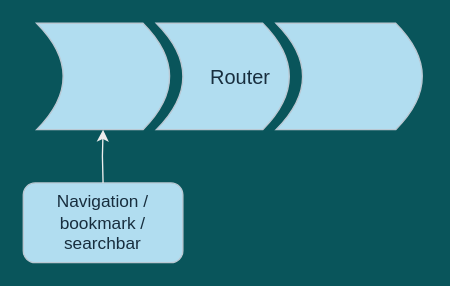
Some shapes in this 450 by 286 pixel diagram are drawn without their labels. Each missing label, with the centre of its shape:
"Component" belongs at [348,76].
"Location" belongs at [102,76].
